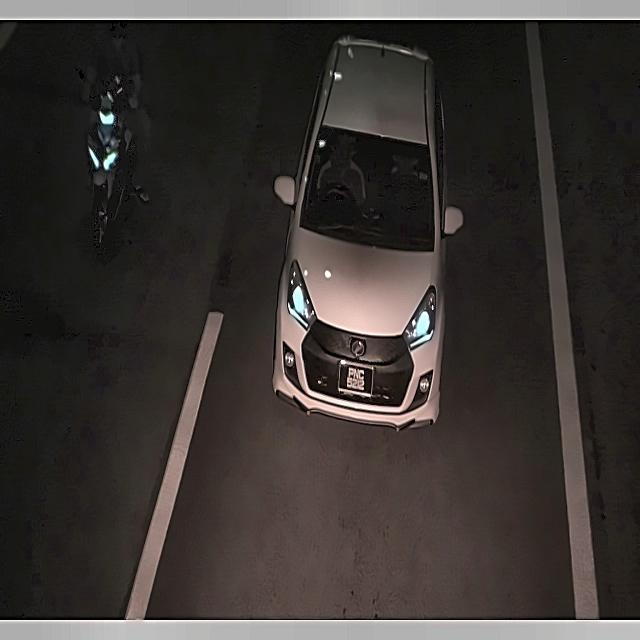car: (335, 356, 377, 406)
